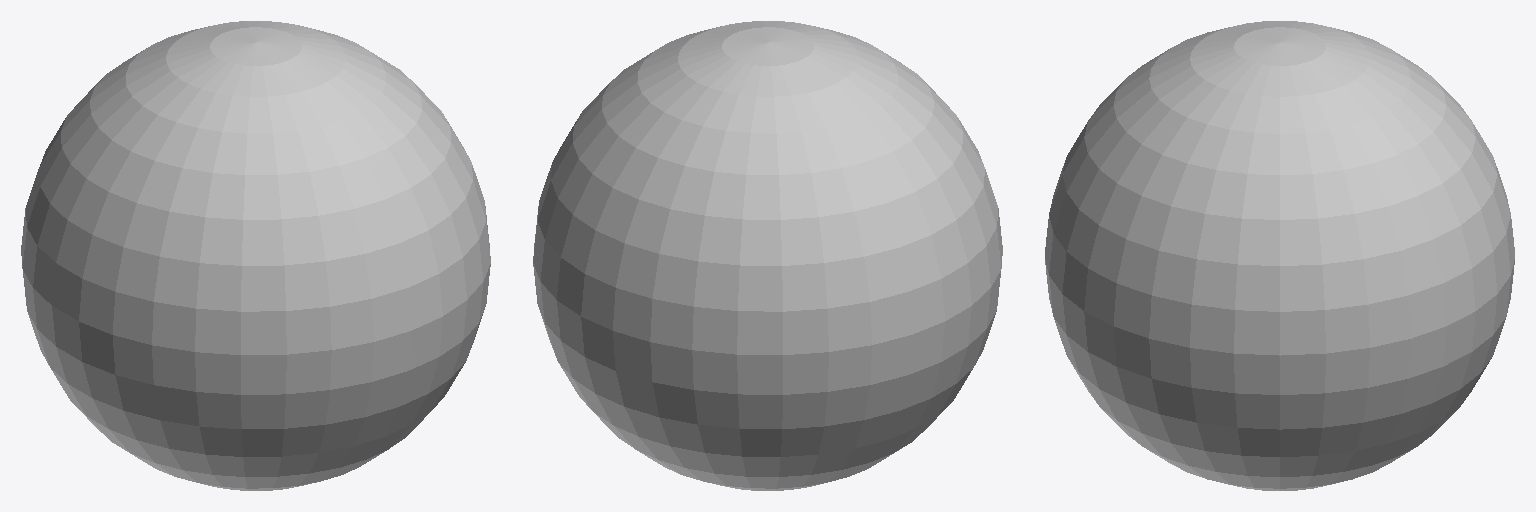
Rendered from light.obj.
The picture shows the model from 3 angles: view 1: azimuth 30°, elevation 25°; view 2: azimuth 150°, elevation 25°; view 3: azimuth 270°, elevation 25°; orthographic projection.
Parts seen in each view (by area): view 1: Sphere; view 2: Sphere; view 3: Sphere.
Boxes of the visible parts, box(x1,y1,x2,y2) form: Sphere: box(21, 21, 490, 490); Sphere: box(533, 21, 1002, 490); Sphere: box(1045, 21, 1514, 490).
Size of the model in its own units: 0.4669 by 0.4669 by 0.4669.